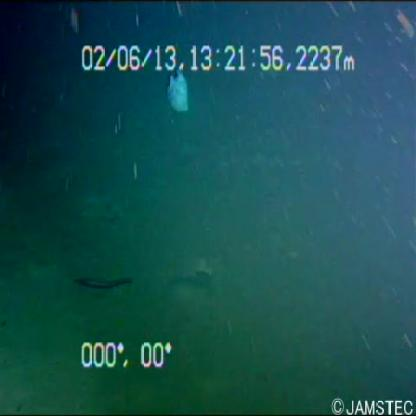Rác: (157, 59, 200, 114)
